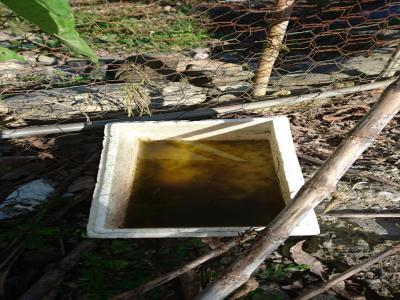styrofoam: (82, 113, 321, 242)
